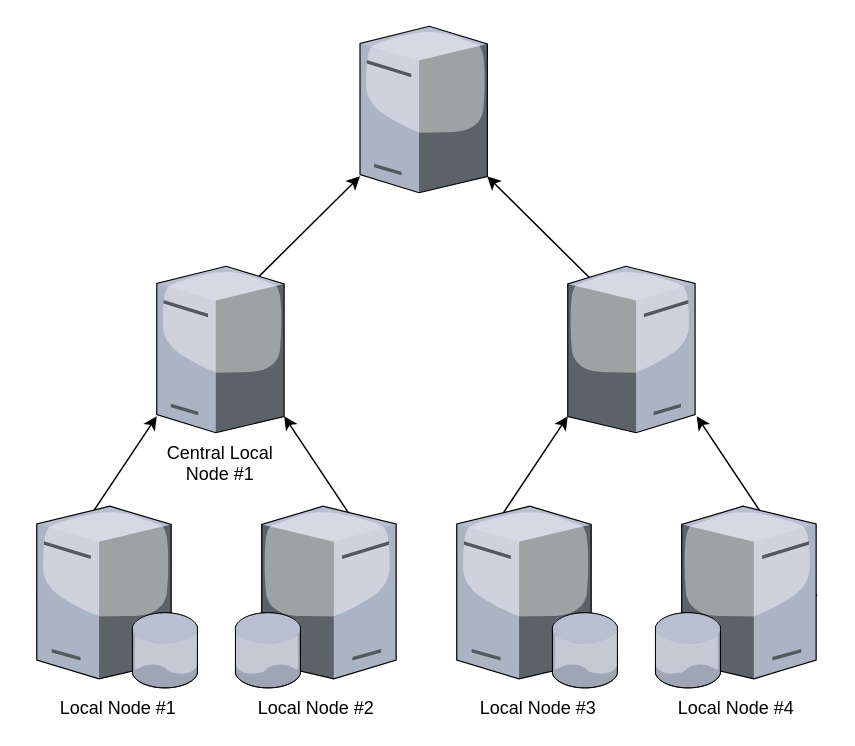
Some shapes in this 855 by 746 pixel diagram are drawn without their labels. Each missing label, with the centre of its shape:
Central Local Node #2: point 630,349
Central Node: point 423,109
